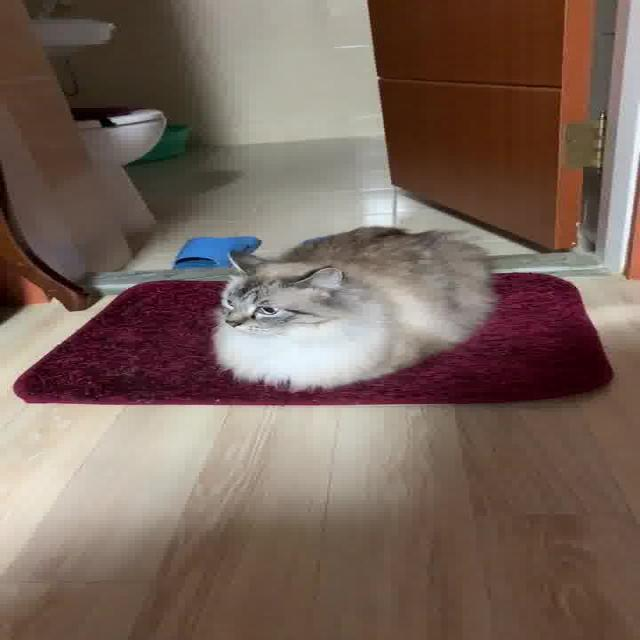cat: (191, 222, 519, 392)
